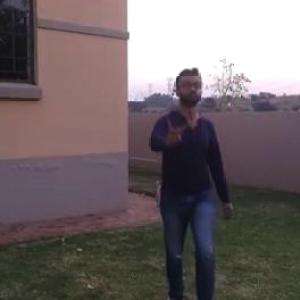takeoff-hand: (162, 121, 186, 151)
